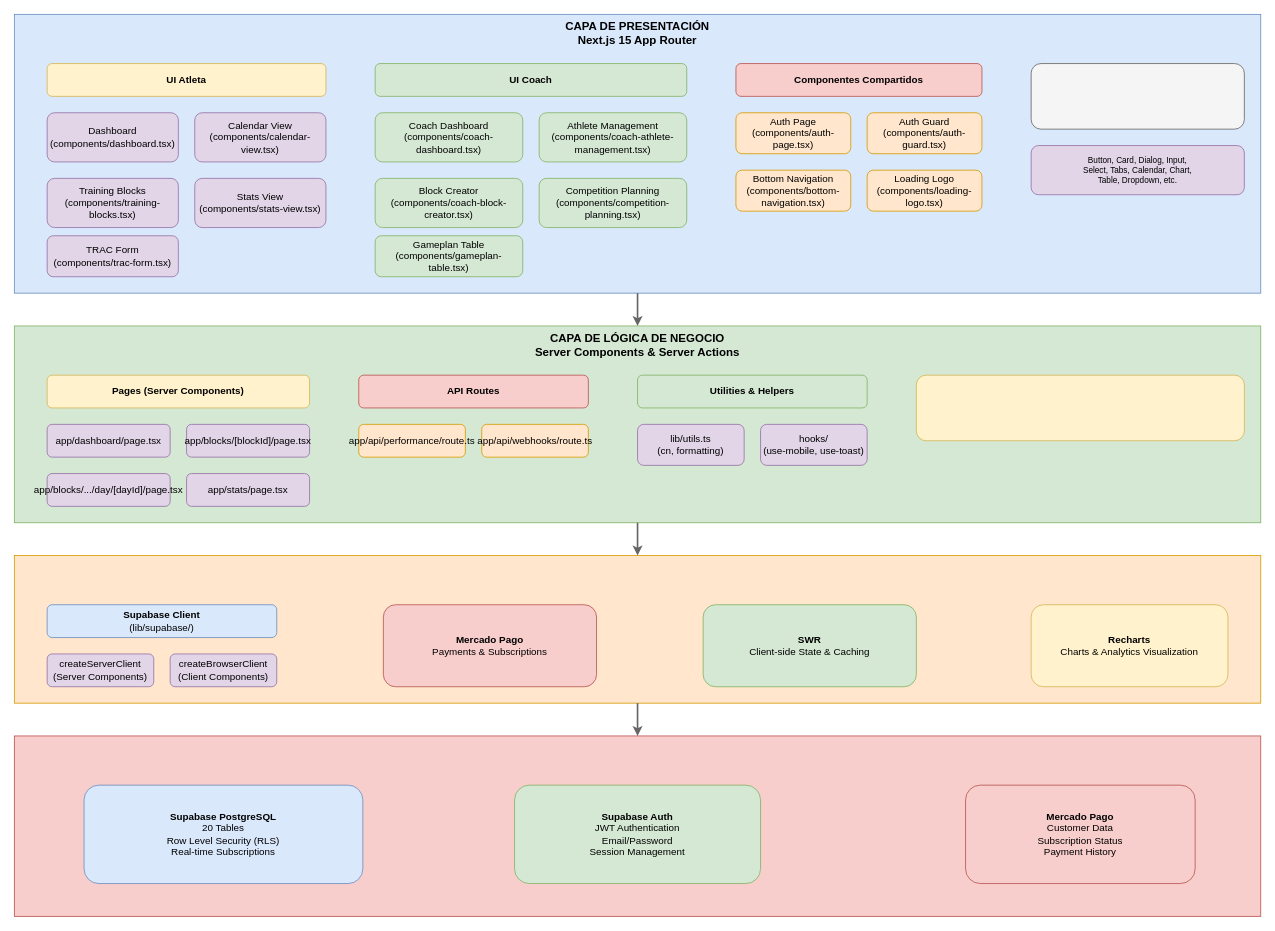
Some shapes in this 1275 by 931 pixel diagram are drawn without their labels. The shapes that lost their labels are listed below. From the top down, each one's box as (x1, y1, x2, y2) in pixels, then its label:
(1030, 63, 1244, 129): shadcn/ui (components/ui/*)
(916, 374, 1244, 441): Middleware middleware.ts Auth verification, Token refresh
(14, 555, 1261, 703): CAPA DE INTEGRACIÓN External Services
(14, 735, 1261, 916): CAPA DE DATOS Database & Storage
